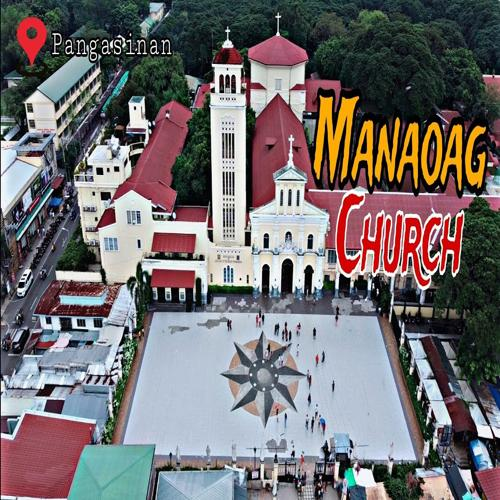Manaoag Church: (203, 24, 330, 310)
